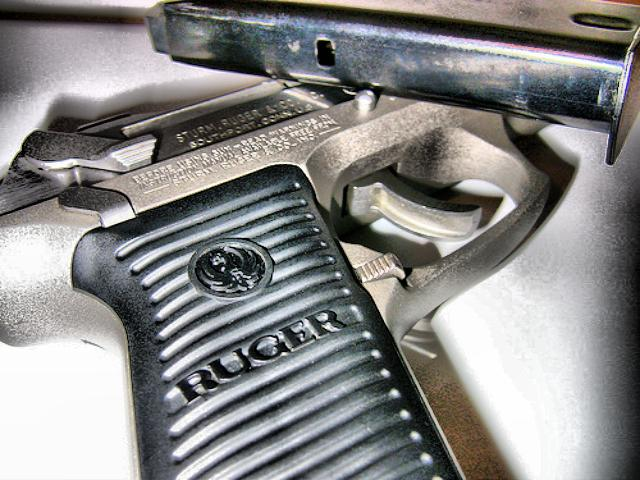pistol: (1, 53, 634, 479)
